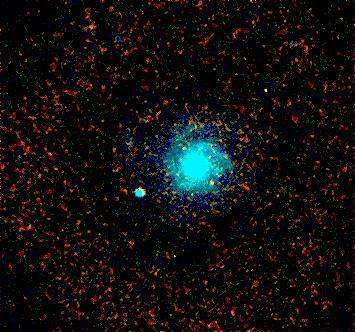star: (199, 168, 229, 198)
